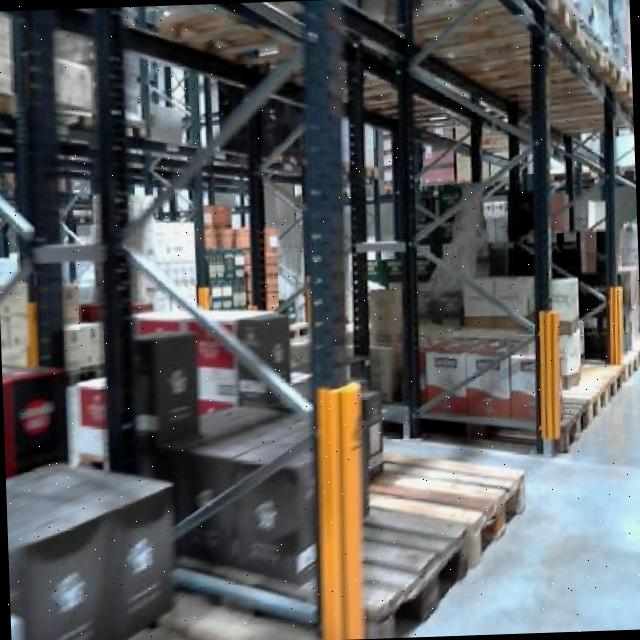pallet: (356, 444, 536, 568), (333, 496, 472, 640), (550, 353, 632, 425), (544, 394, 597, 452)
